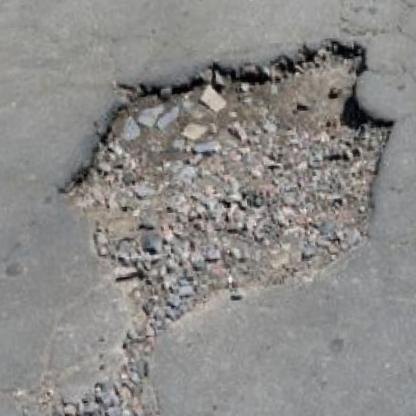pothole: (43, 30, 410, 351)
